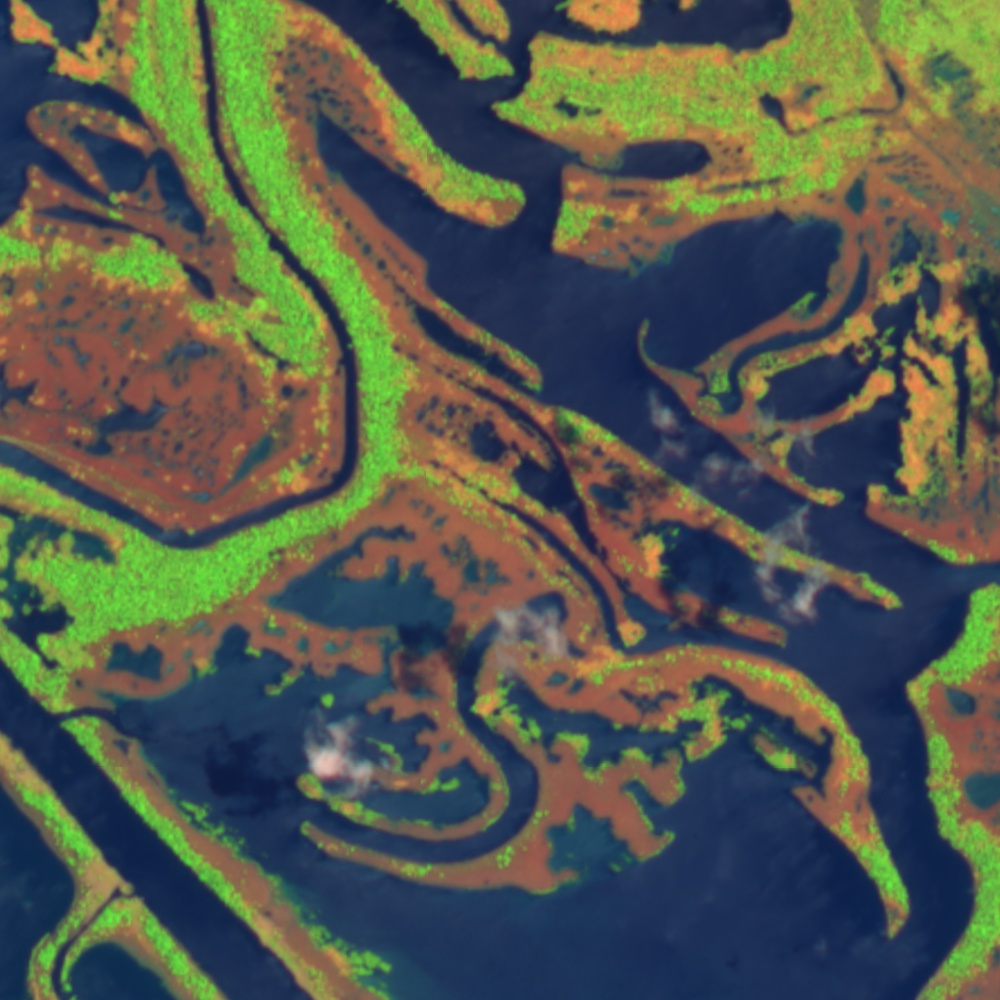legal: (57, 470, 899, 1000), (545, 96, 1000, 562), (288, 30, 722, 468), (1, 1, 348, 532), (903, 592, 1000, 1000)
